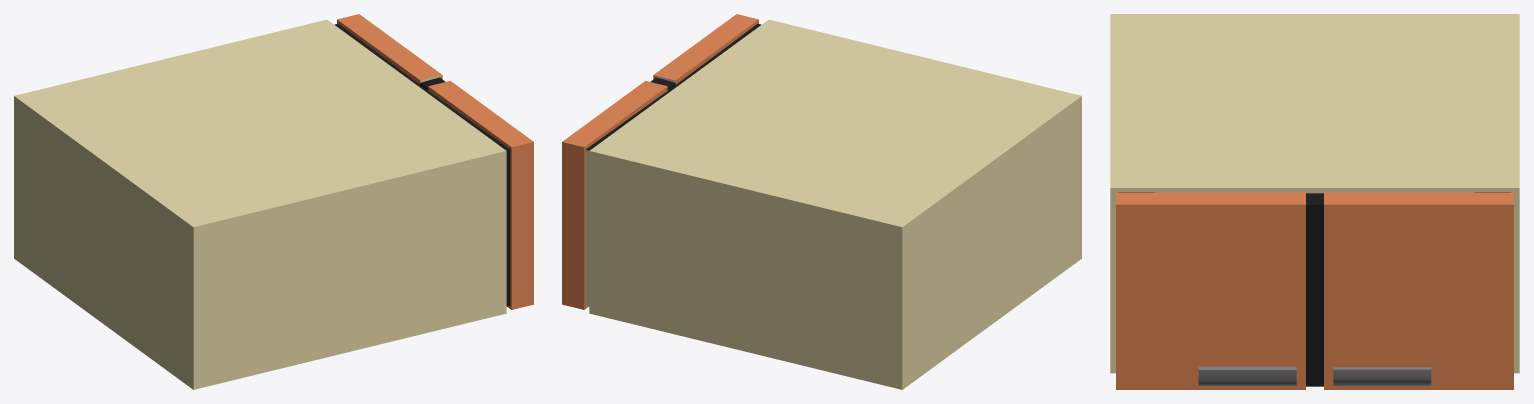
The model's file is SM_Cupboard_Small_01.fbx.
3 views of the same model, side by side, from view 1: azimuth 30°, elevation 25°; view 2: azimuth 150°, elevation 25°; view 3: azimuth 270°, elevation 25° (orthographic). The views are drawn at different scales.
Visible parts, largest first — view 1: SM_Cupboard_Small_01; view 2: SM_Cupboard_Small_01; view 3: SM_Cupboard_Small_01.
Boxes of the visible parts, x1,y1,x2,y2 form: SM_Cupboard_Small_01: (14, 14, 533, 389); SM_Cupboard_Small_01: (562, 14, 1081, 389); SM_Cupboard_Small_01: (1110, 14, 1519, 389).
Bounding box in the file's own units: 1.15 × 1 × 0.5.
